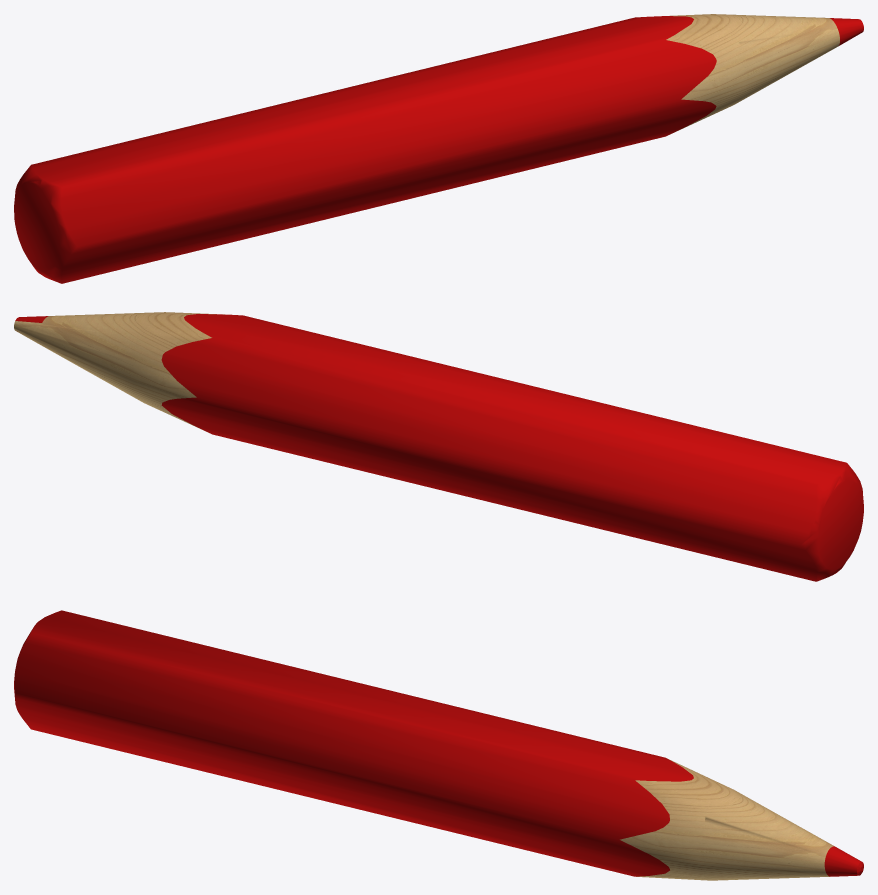
The model's file is Pencil.FBX.
3 views of the same model, one above another, from view 1: azimuth 30°, elevation 25°; view 2: azimuth 150°, elevation 25°; view 3: azimuth 330°, elevation 25° (orthographic).
Visible parts, largest first — view 1: pencil; view 2: pencil; view 3: pencil.
Part boxes in pixels (left/top/right/bottom): pencil: left=14, top=14, right=863, bottom=283; pencil: left=14, top=312, right=863, bottom=581; pencil: left=14, top=610, right=863, bottom=880.
Bounding box in the file's own units: 9.94 × 1.11 × 1.28.
